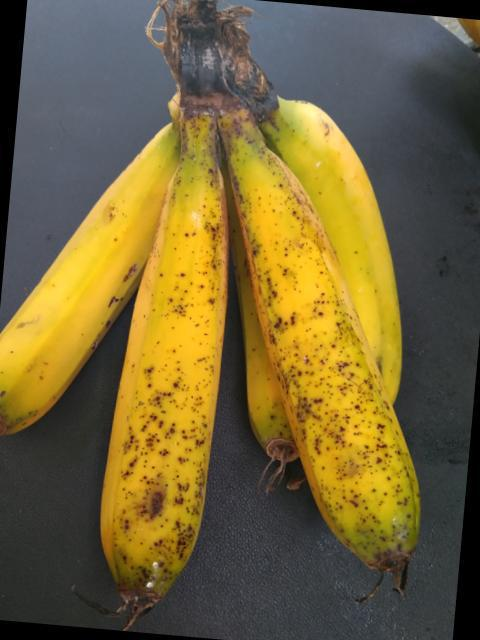freshripe: (0, 135, 159, 435)
ripe: (229, 138, 427, 595), (82, 155, 231, 621)
